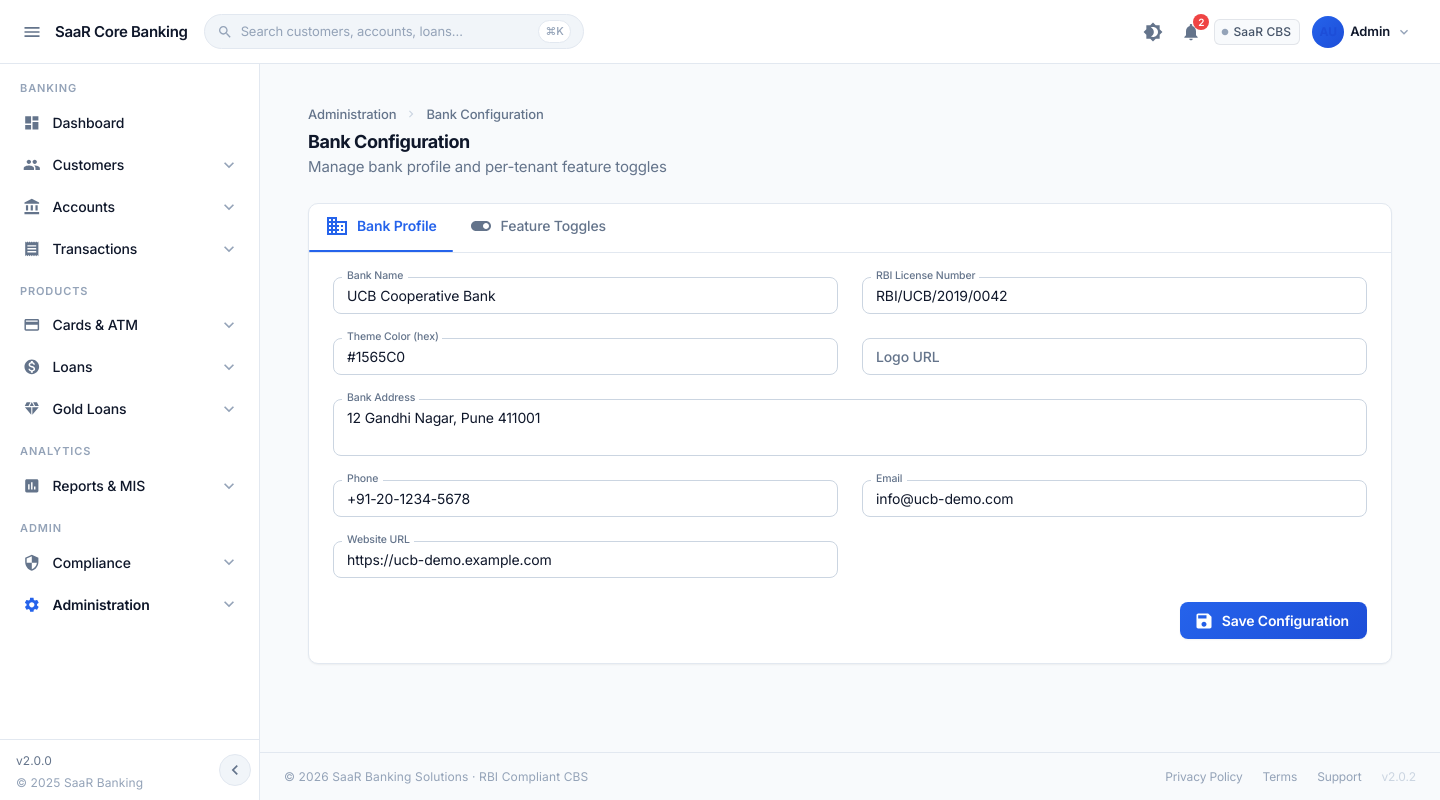
Test case: [REGRESSION] Bank Configuration — Bank Profile Tab › allows editing the Bank Name field
Replace the text in the field named "Bank Name" with "New Bank Name" at (586, 296), box [333,277,838,314]
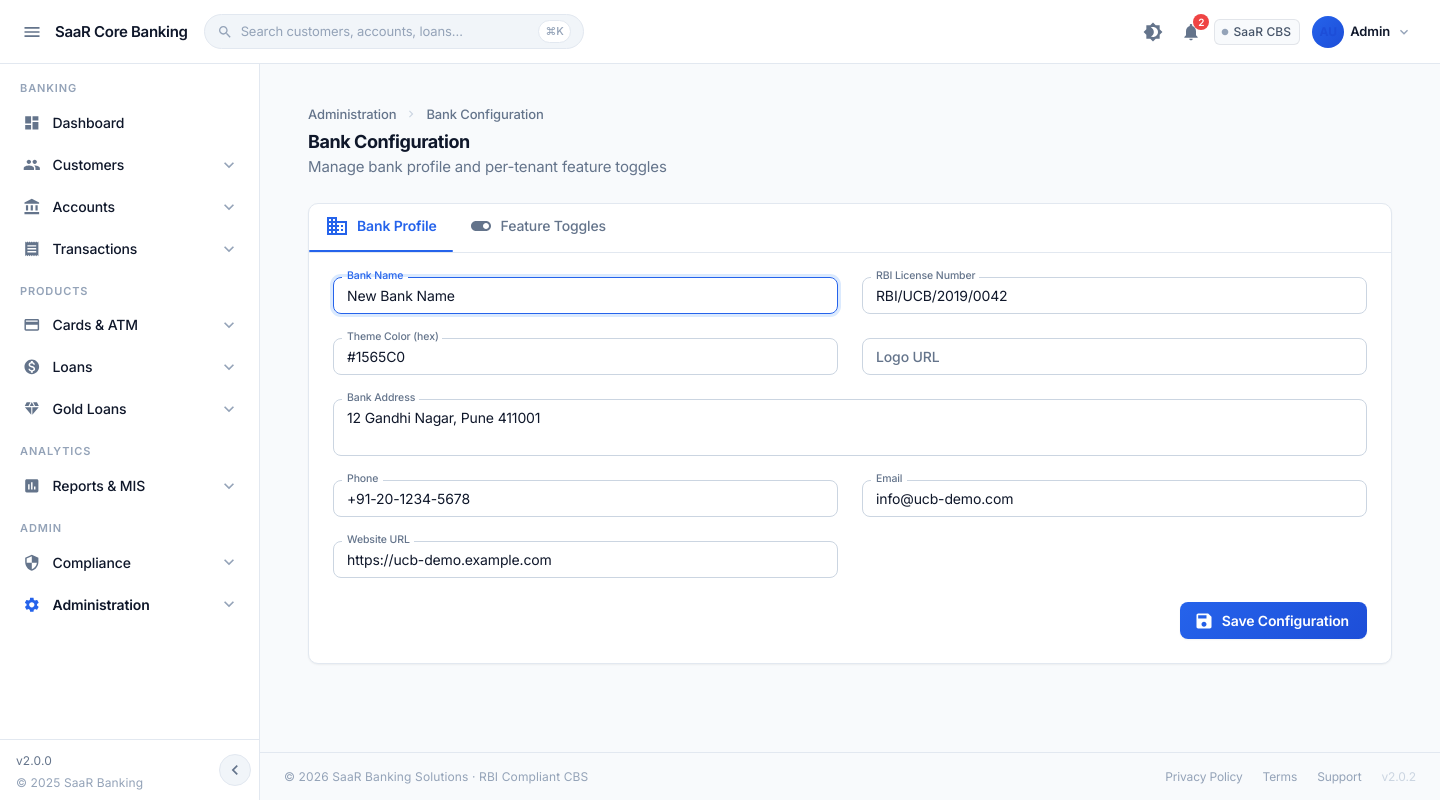
Expected: the field named "Bank Name" holds "New Bank Name", [333,277,838,314]
